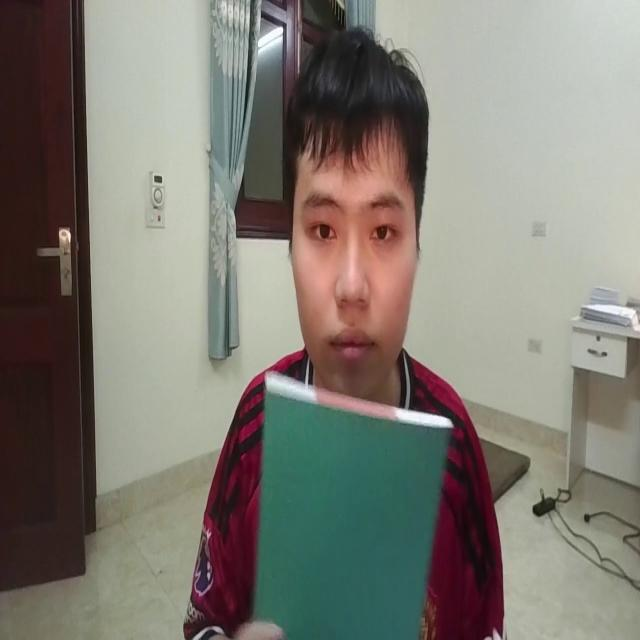book: (251, 359, 456, 640)
student: (186, 22, 500, 640)
